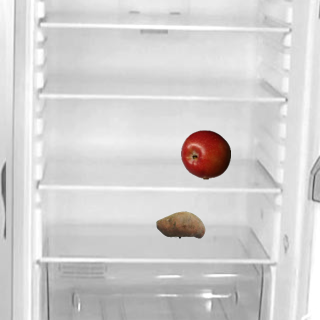Apple Braeburn: (180, 129, 230, 179)
Potato Sweet: (155, 199, 205, 249)
